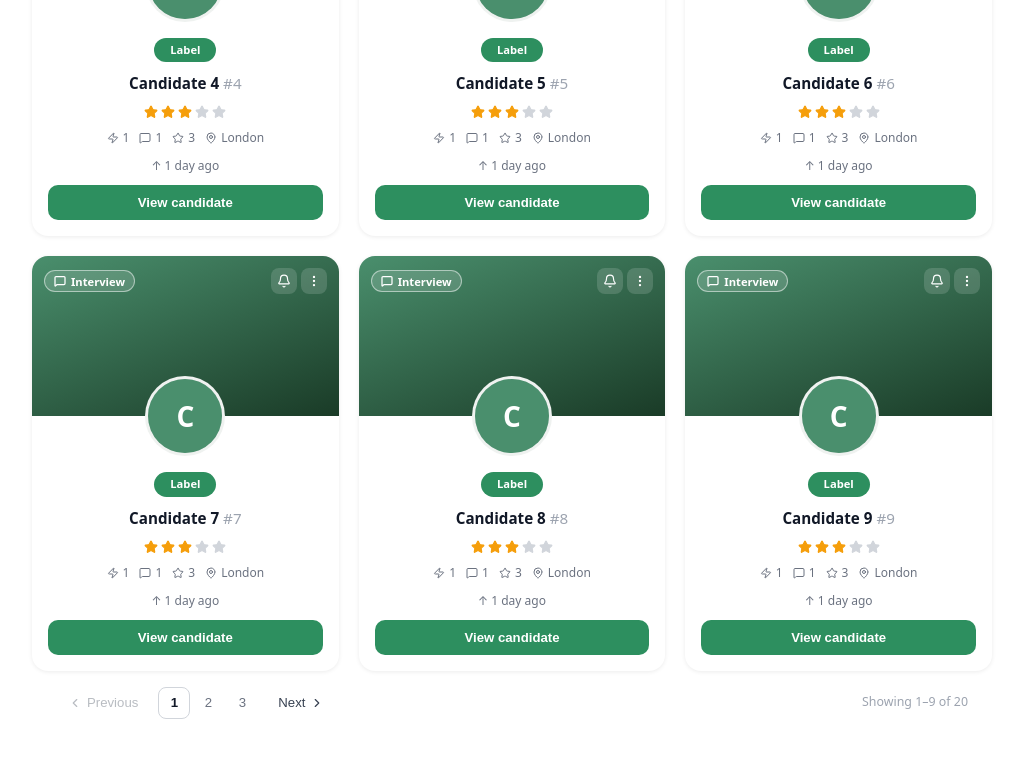
CandidatesPage › resets to page 1 when switching views
The image size is (1024, 762).
(page scrolled)
What coordinates should you click on to do the following:
click the button "2"
I would click on:
 (208, 703)
Its box is [192,687,224,719].
(page scrolled)
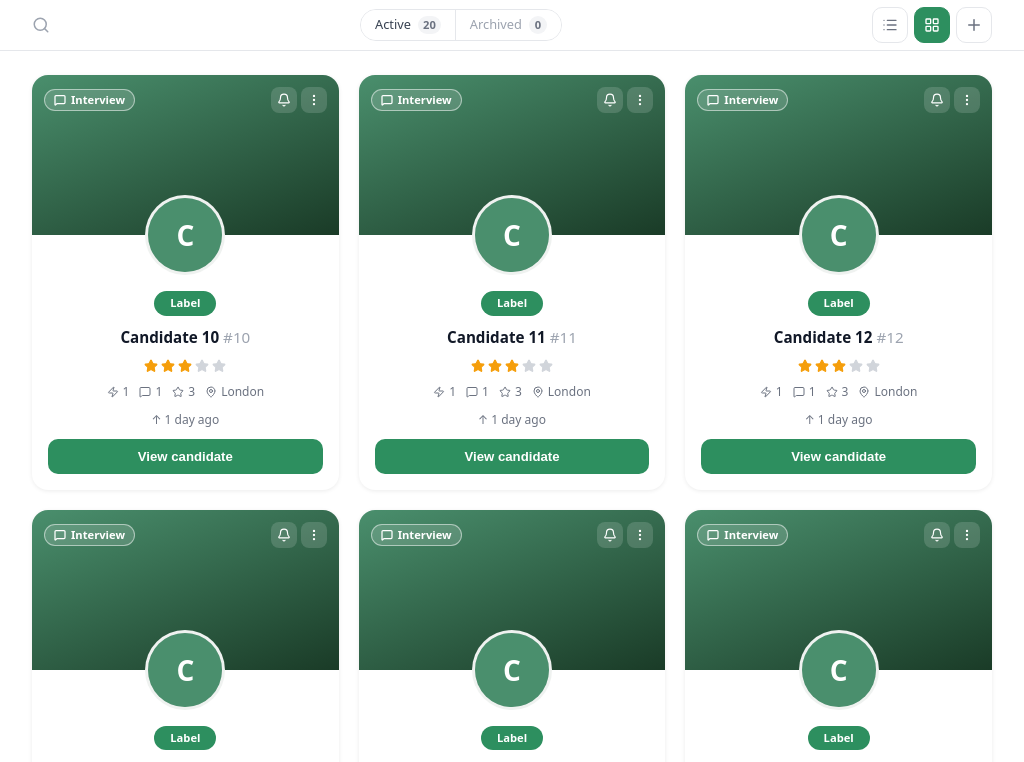
Check: the text "Candidate 10" is shown, box [120,327,219,347]
What coordinates should you click on to do the following:
click the button named "List view"
I would click on:
 (890, 24)
Its box is [872,6,908,42].
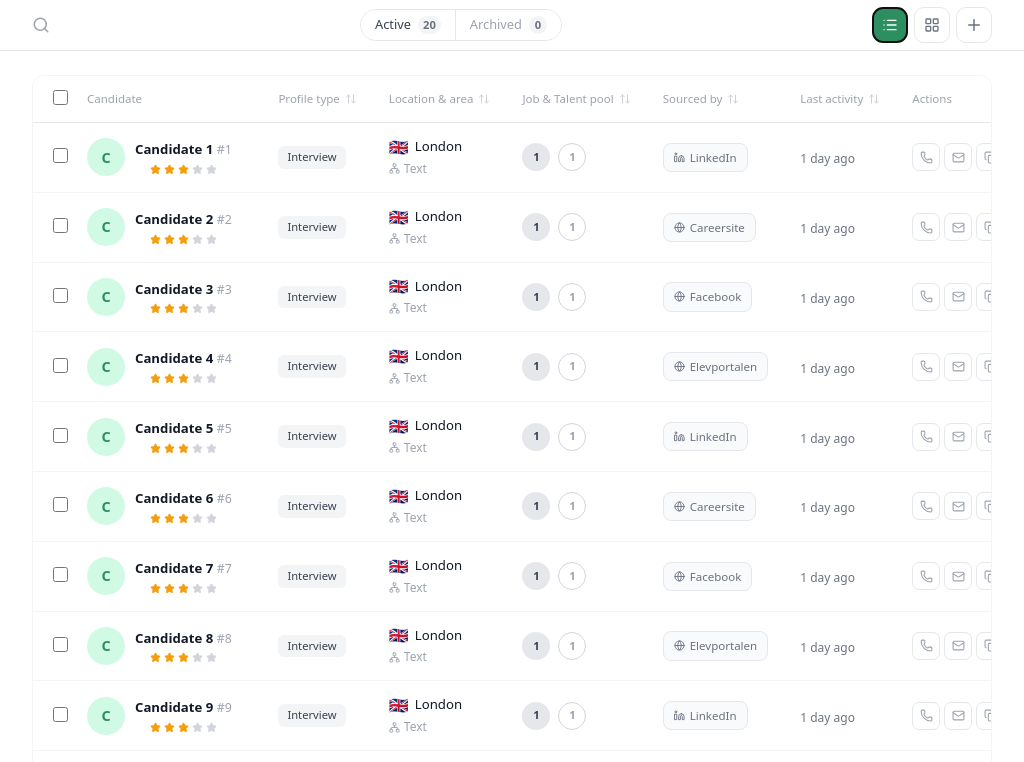
Check: the text "Candidate 1" is shown, box [135,140,213,158]
